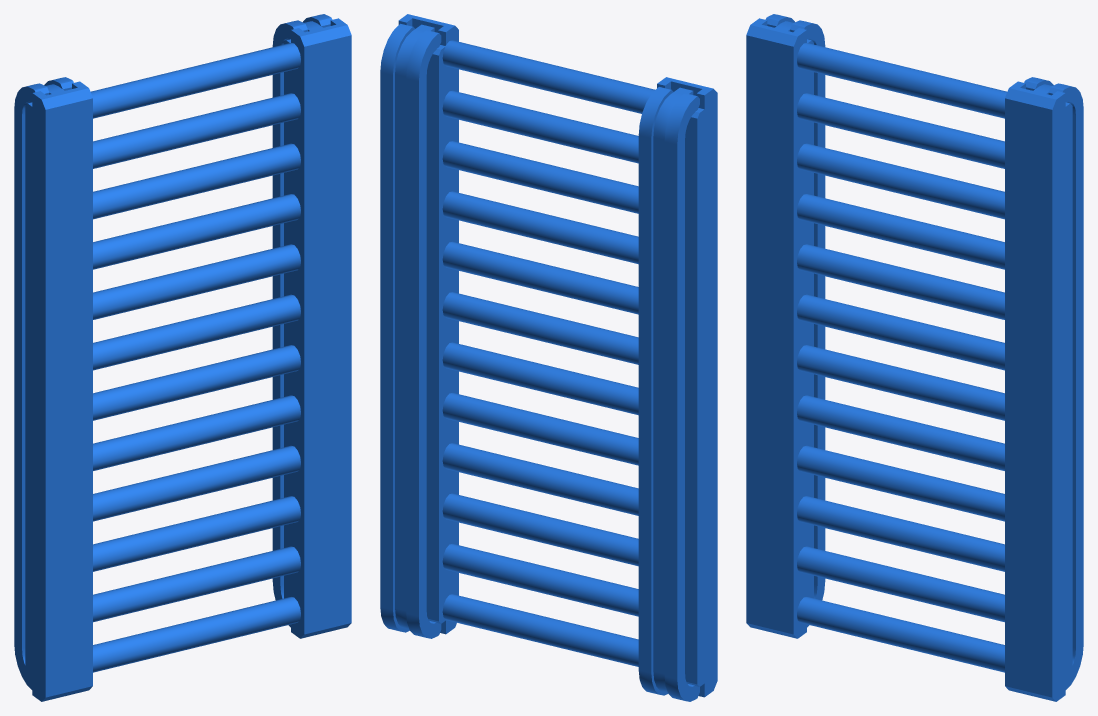
File: obj_survivalobject_ladder.fbx
The picture shows the model from 3 angles, left to right: view 1: azimuth 30°, elevation 25°; view 2: azimuth 150°, elevation 25°; view 3: azimuth 330°, elevation 25°; orthographic projection.
Parts seen in each view (by area): view 1: part3_lp.002, part3_lp.003, part3_lp.001; view 2: part3_lp.003, part3_lp.001, part3_lp.002; view 3: part3_lp.002, part3_lp.003, part3_lp.001.
Boxes of the visible parts, x1,y1,x2,y2 form: part3_lp.002: (25, 18, 351, 701); part3_lp.003: (91, 43, 300, 672); part3_lp.001: (14, 14, 332, 689); part3_lp.003: (442, 40, 655, 666); part3_lp.001: (380, 23, 699, 701); part3_lp.002: (398, 14, 717, 697); part3_lp.002: (746, 18, 1072, 701); part3_lp.003: (797, 43, 1006, 672); part3_lp.001: (765, 14, 1083, 689).
Bounding box in the file's own units: 7.98 × 15 × 1.62.
